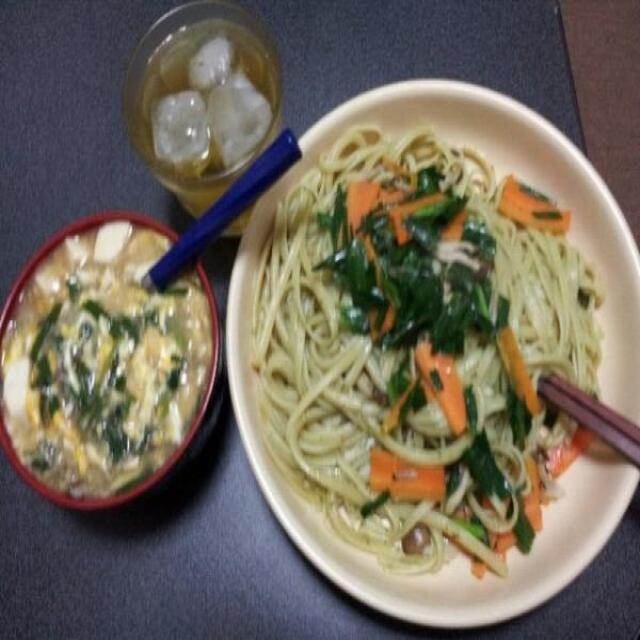汤锅炖物: (0, 214, 222, 514)
